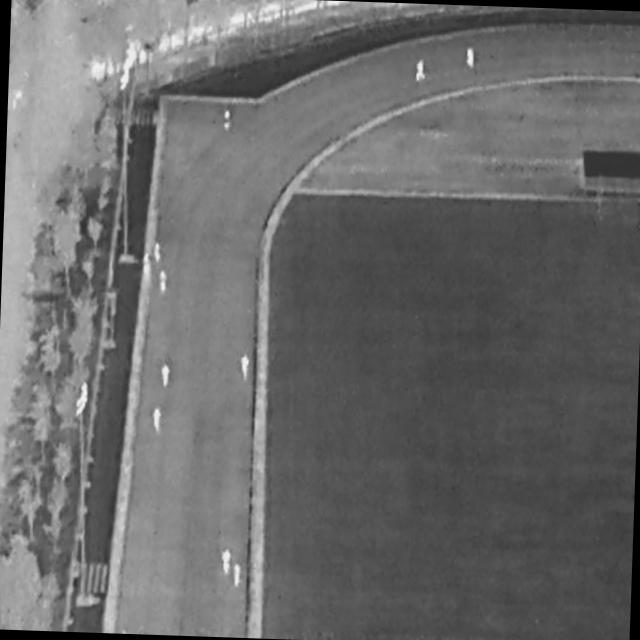person: (240, 356, 252, 381), (152, 409, 163, 433), (222, 551, 232, 576), (162, 364, 172, 388), (417, 61, 427, 84), (159, 272, 168, 293), (234, 564, 242, 587), (224, 110, 232, 131), (144, 254, 152, 275), (154, 243, 162, 263), (467, 49, 475, 69), (122, 630, 128, 635), (639, 210, 640, 229)
